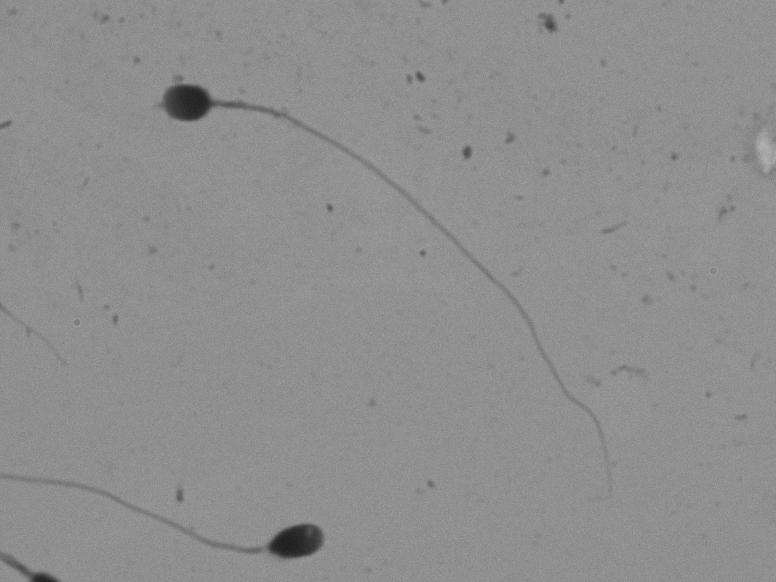Normal: (135, 56, 702, 480), (10, 464, 374, 569)
